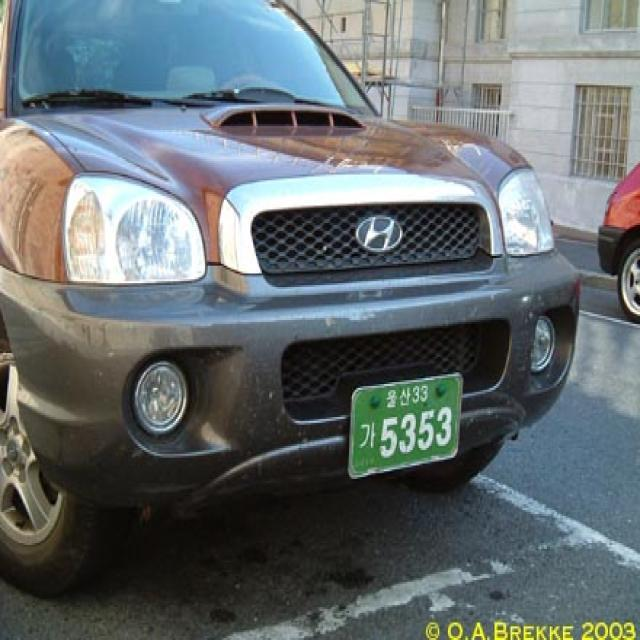car: (326, 363, 488, 494)
